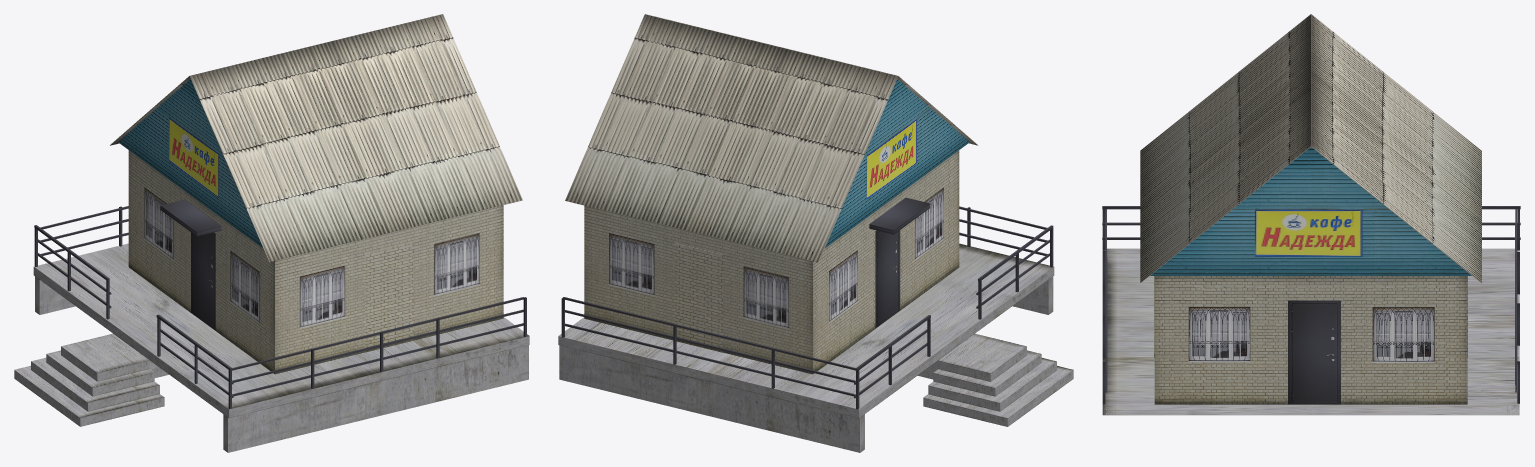
Rendered from r402_tukalinsk_kafe6.FBX.
The picture shows the model from 3 angles, left to right: view 1: azimuth 30°, elevation 25°; view 2: azimuth 150°, elevation 25°; view 3: azimuth 270°, elevation 25°; orthographic projection. The views are drawn at different scales.
Parts seen in each view (by area): view 1: r402_tukalinsk_kafe6; view 2: r402_tukalinsk_kafe6; view 3: r402_tukalinsk_kafe6.
Part boxes in pixels (bbox=[...]): r402_tukalinsk_kafe6: bbox=[14, 14, 529, 452]; r402_tukalinsk_kafe6: bbox=[558, 14, 1073, 452]; r402_tukalinsk_kafe6: bbox=[1102, 14, 1520, 415].
Size of the model in its own units: 937 by 802 by 661.
